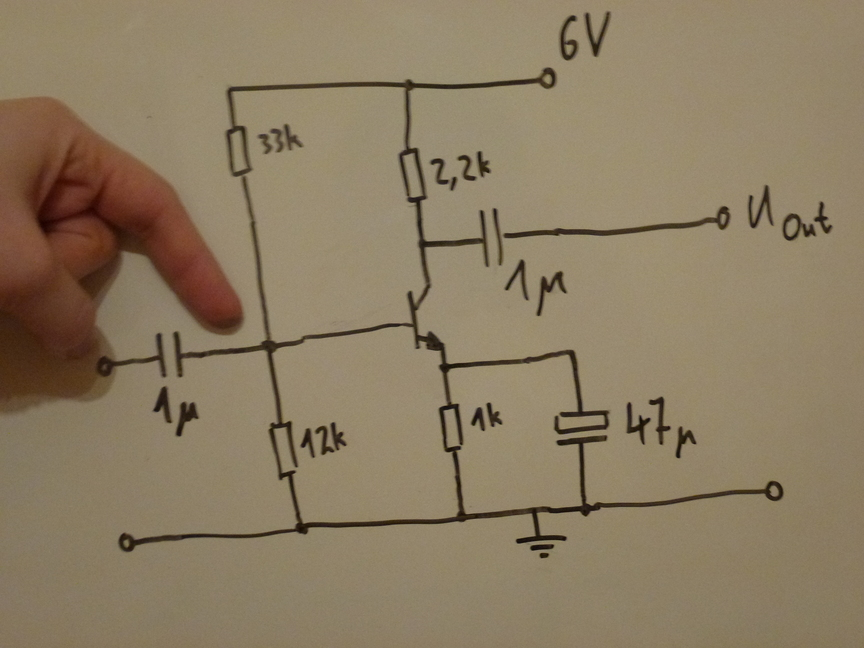capacitor.polarized: (548, 406, 616, 451)
capacitor.unpolarized: (466, 204, 516, 269), (142, 327, 199, 382)
gnd: (513, 526, 569, 563)
junction: (257, 332, 282, 358), (398, 74, 419, 95), (289, 519, 312, 537), (450, 508, 472, 526), (576, 500, 597, 518), (435, 358, 456, 375), (414, 235, 431, 252), (221, 80, 237, 97), (566, 345, 581, 360), (526, 503, 542, 517)
resistor: (394, 143, 431, 207), (265, 415, 300, 482), (219, 120, 256, 181), (435, 399, 468, 460)
terminal: (759, 477, 791, 508), (91, 351, 119, 379), (114, 530, 143, 557), (534, 65, 562, 92), (712, 202, 736, 233)
text: (616, 393, 704, 463), (742, 183, 839, 245), (499, 259, 574, 320), (146, 383, 210, 440), (554, 8, 614, 66), (428, 148, 497, 192), (297, 421, 350, 461), (253, 120, 304, 158), (467, 399, 508, 434)
transistor: (402, 280, 453, 355)
